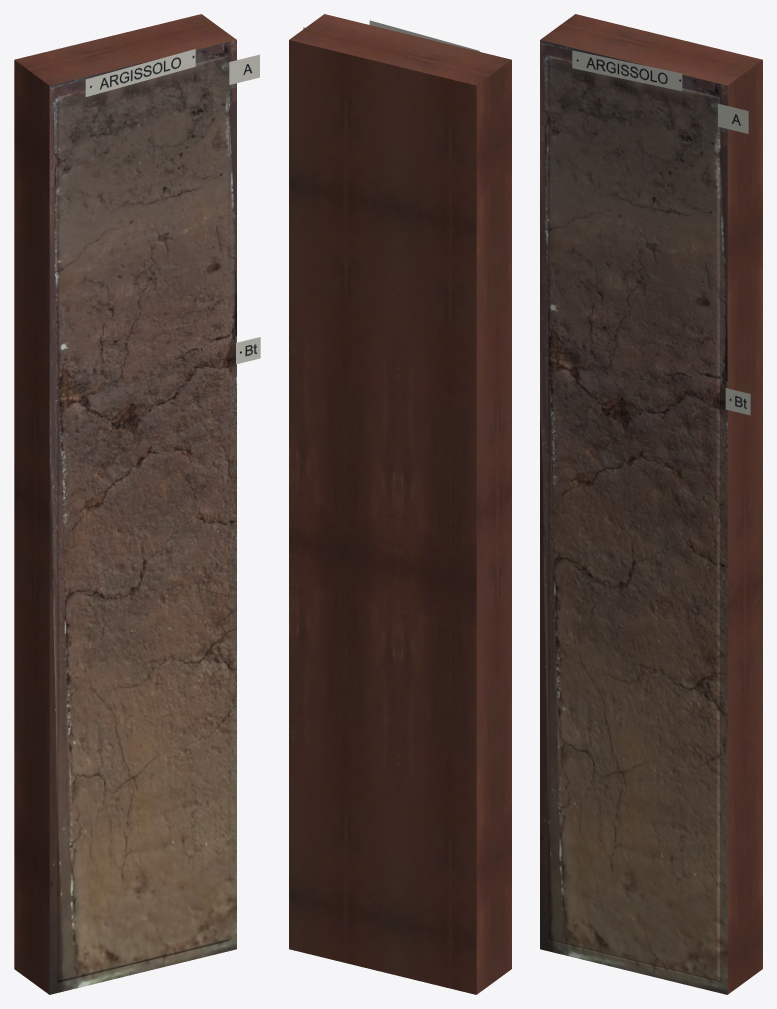
File: perfil_11_10_argissolo.glb
3 renders of one model, left to right at view 1: azimuth 30°, elevation 25°; view 2: azimuth 150°, elevation 25°; view 3: azimuth 330°, elevation 25°, orthographic.
Parts seen in each view (by area): view 1: Solo_11_10, Madeira_11_10, Moldura_11_10, Rotulos_11_10; view 2: Madeira_11_10; view 3: Solo_11_10, Madeira_11_10, Moldura_11_10, Rotulos_11_10.
Boxes of the visible parts, box(x1,y1,x2,y2) form: Solo_11_10: box(57, 55, 229, 982); Madeira_11_10: box(14, 14, 236, 994); Moldura_11_10: box(49, 40, 236, 994); Rotulos_11_10: box(85, 49, 260, 364); Madeira_11_10: box(289, 14, 511, 994); Solo_11_10: box(547, 55, 719, 982); Madeira_11_10: box(540, 14, 762, 994); Moldura_11_10: box(540, 40, 727, 994); Rotulos_11_10: box(572, 50, 750, 415).
Size of the model in its own units: 0.3713 by 1.53 by 0.1139.
4 materials, 4 textured.
